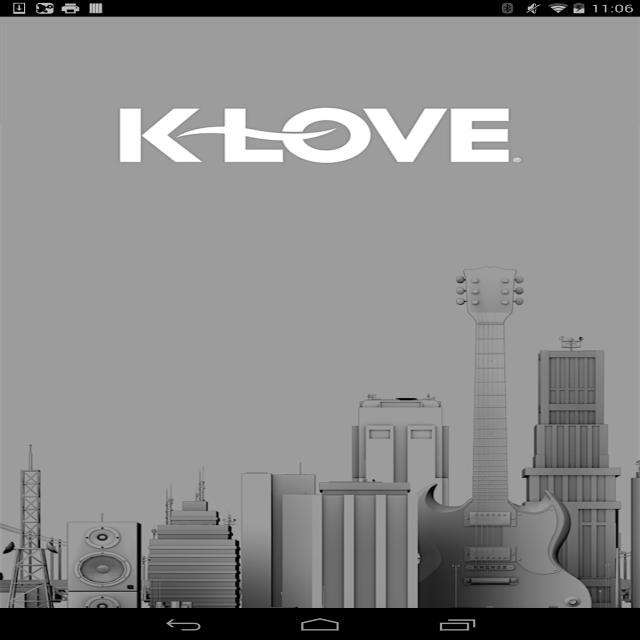Button: (0, 402, 159, 442), (1, 446, 160, 486)
ImageView: (182, 46, 392, 81), (407, 41, 512, 86), (170, 110, 202, 143)
ProgressBar: (374, 175, 426, 208), (374, 399, 426, 432), (374, 144, 426, 176), (374, 208, 426, 240), (374, 240, 426, 272), (374, 272, 426, 304), (374, 304, 426, 336), (374, 336, 426, 368), (374, 368, 426, 400), (374, 432, 426, 464)
TextView: (0, 519, 160, 559), (11, 72, 149, 106), (11, 106, 149, 138), (11, 138, 149, 170), (11, 170, 149, 202), (11, 202, 149, 234), (11, 234, 149, 266), (11, 266, 149, 298), (11, 298, 149, 330), (11, 330, 149, 362), (208, 110, 326, 143), (516, 66, 602, 79), (516, 48, 574, 66)
